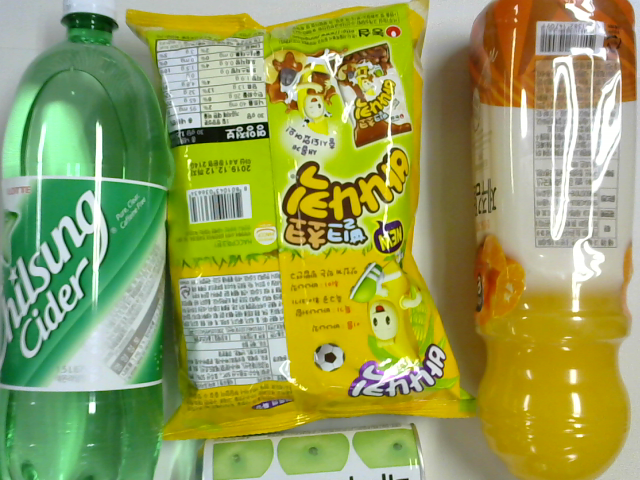Banana_Kick: (121, 6, 473, 438)
Chilseong_Cider_1.5L: (9, 1, 175, 480)
Demisoda_Apple_Can_250ml: (193, 434, 415, 480)
Jeju_Tangerine_1.5L: (465, 4, 637, 480)
